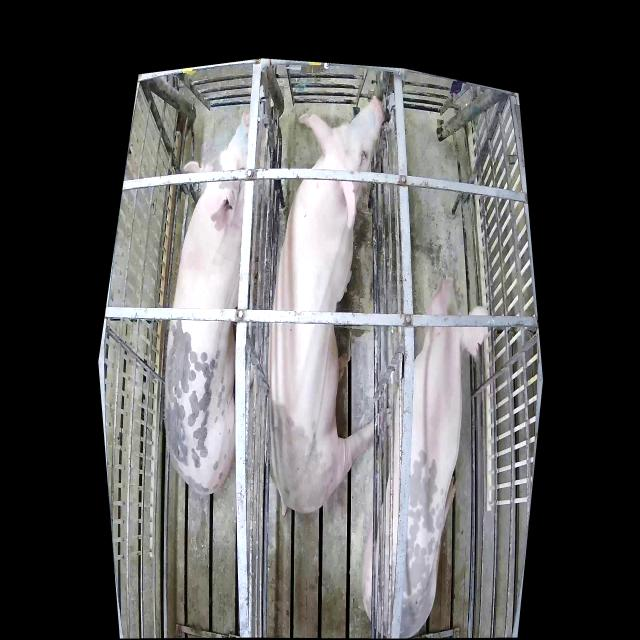pig: (267, 101, 384, 516), (362, 274, 489, 637), (165, 110, 257, 493)
